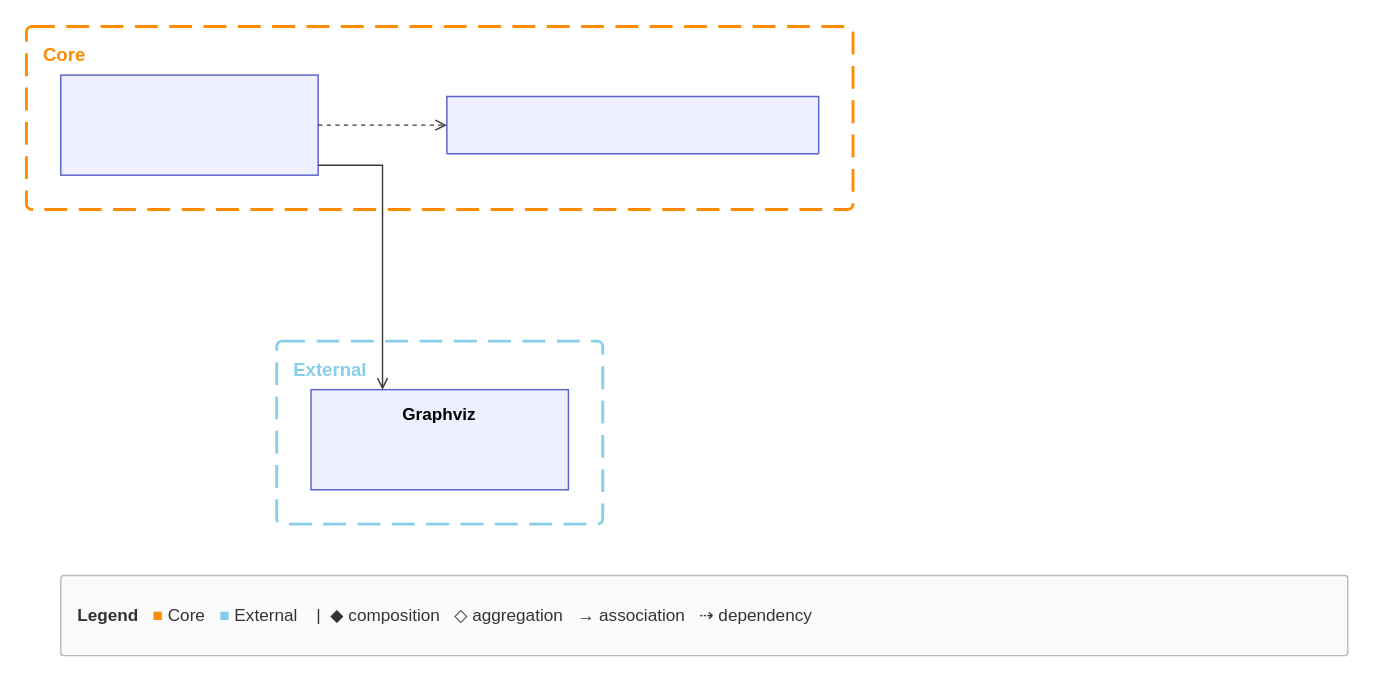
This 1373x681 diagram has some shape labels left out. Here are the shapes that lost their labels. From the top down, the centre of each, then its label:
the point at 188,124: Draw
the point at 632,124: Model
